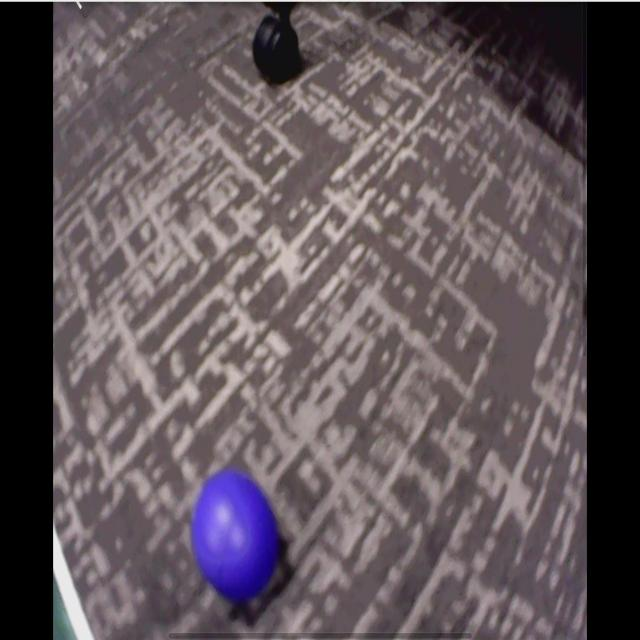ball: (194, 472, 282, 601)
